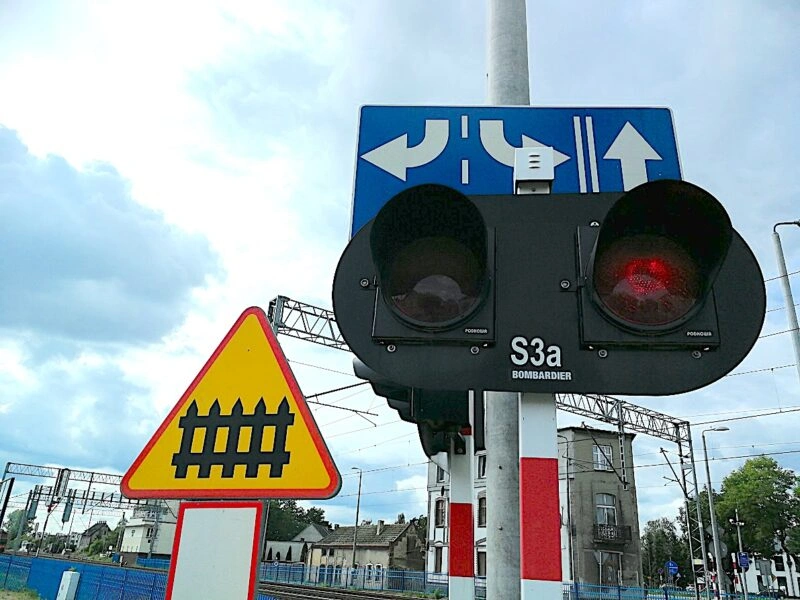a9: (165, 392, 301, 484)
